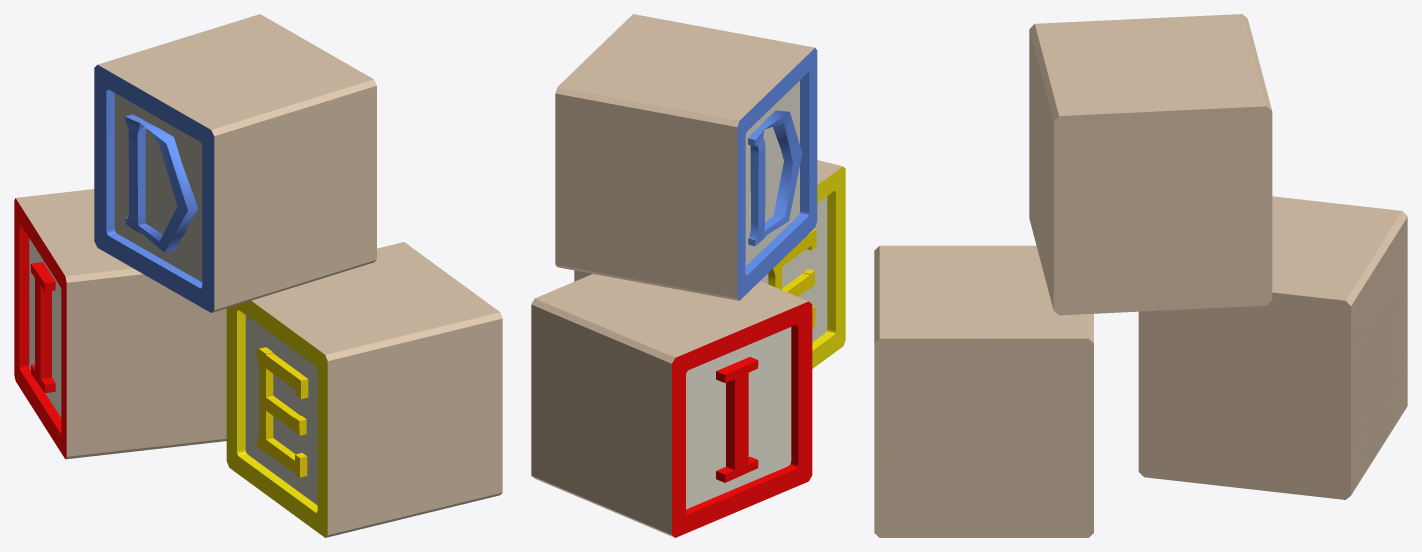
Rendered from ToyBlocks-transformed.glb.
The picture shows the model from 3 angles, left to right: view 1: azimuth 30°, elevation 25°; view 2: azimuth 150°, elevation 25°; view 3: azimuth 270°, elevation 25°; orthographic projection. The views are drawn at different scales.
Parts seen in each view (by area): view 1: D; view 2: D; view 3: D.
Boxes of the visible parts, x1,y1,x2,y2 form: D: [14, 14, 502, 537]; D: [531, 14, 845, 537]; D: [874, 14, 1407, 537].
Size of the model in its own units: 0.0825 by 0.1005 by 0.1213.
1 material, 1 textured.
